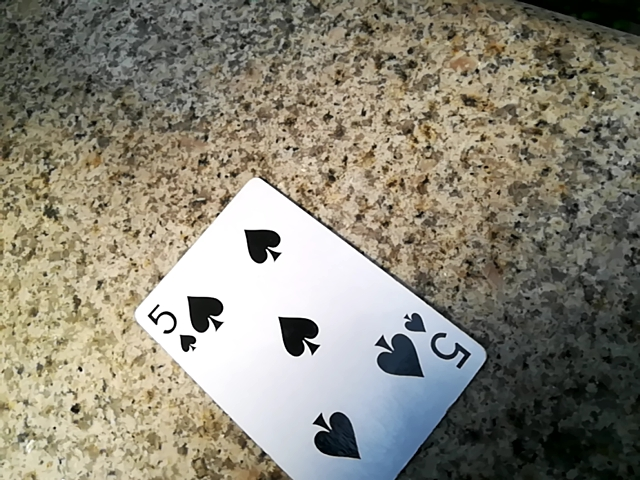ht 5: (119, 177, 475, 480)
